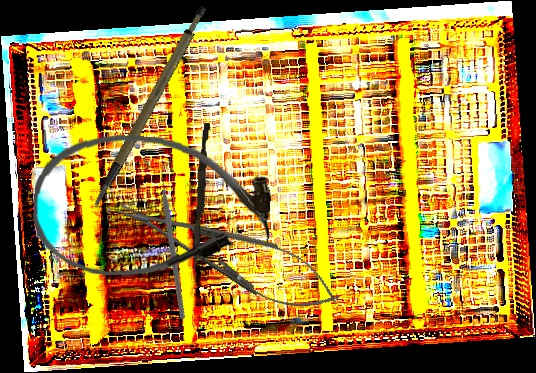Cannula: (30, 130, 274, 284)
Chopper: (97, 160, 255, 321)
Needle Holder: (109, 181, 349, 326)
Pusher: (192, 122, 210, 272)
Scalpel Handle: (63, 2, 232, 207)
